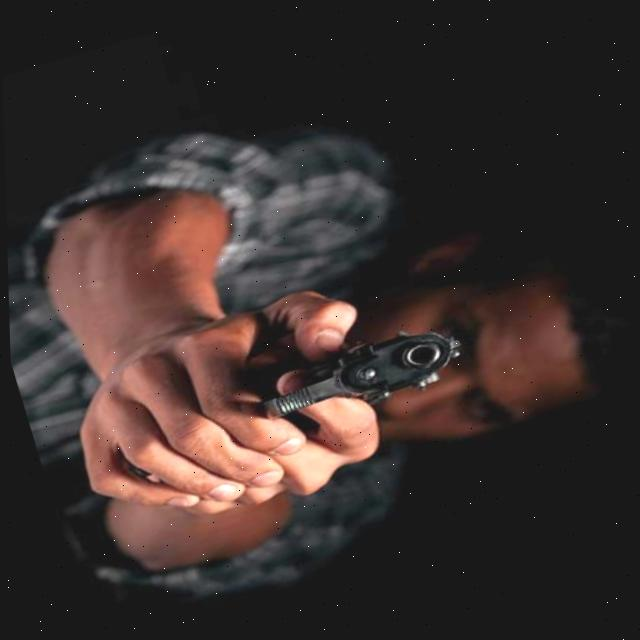pistol: (241, 313, 473, 437)
